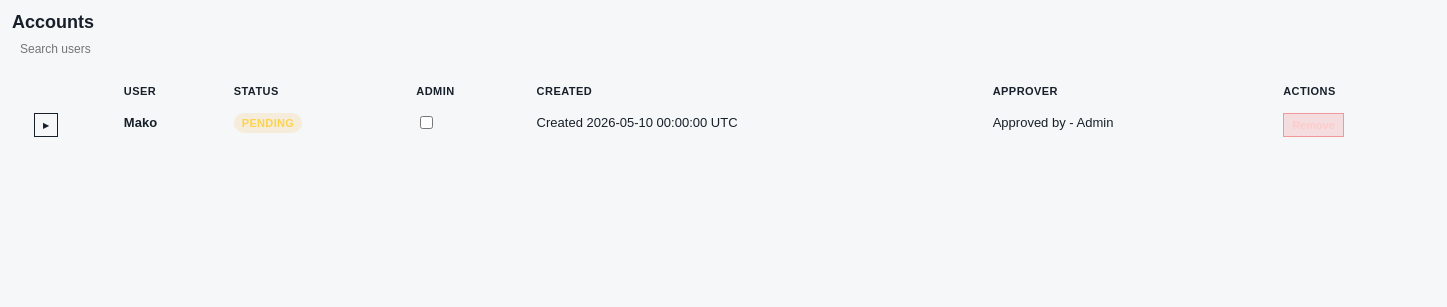
it: AdminAccountsView › sets all server access values for a user
Click the button named "Show server permissions for Mako" at (46, 125), box 34,113 -> 58,137
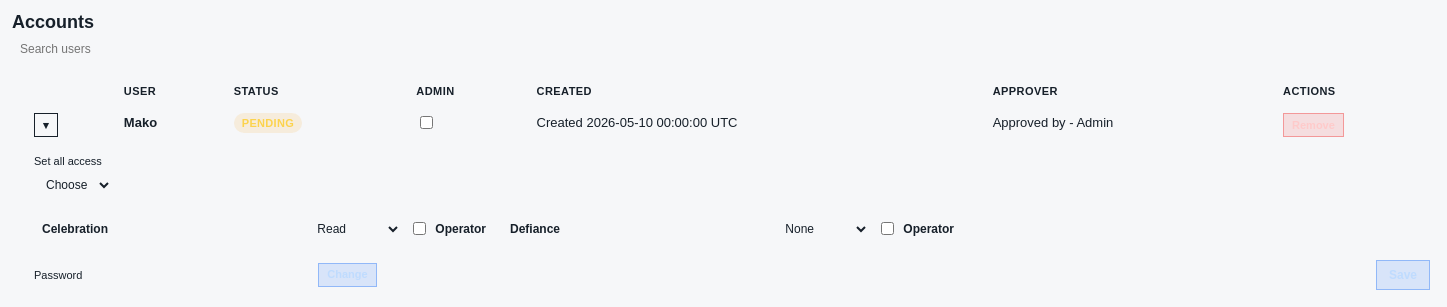
Select "Write" in the dropdown named "Set all server access for Mako" at (73, 185), box 34,170 -> 112,200
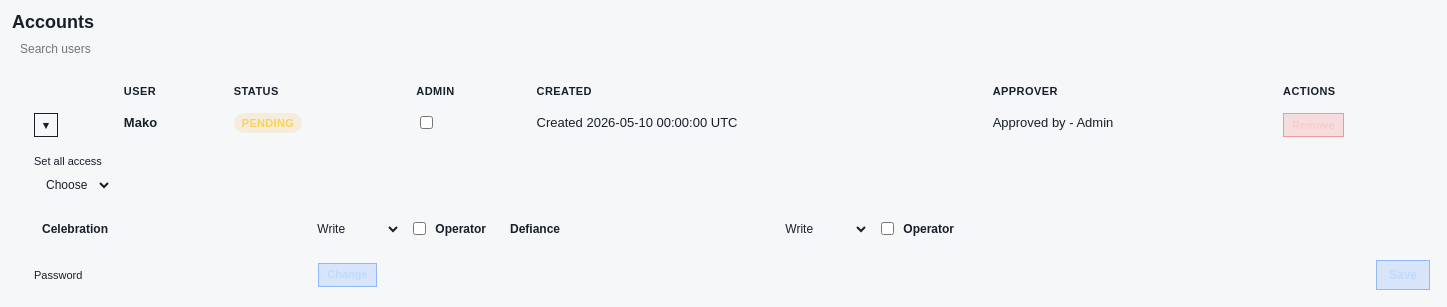
Result: the dropdown named "Access for Mako on Celebration" shows "Write" at 305,214 -> 401,244
Result: the dropdown named "Access for Mako on Defiance" shows "Write" at 773,214 -> 869,244
